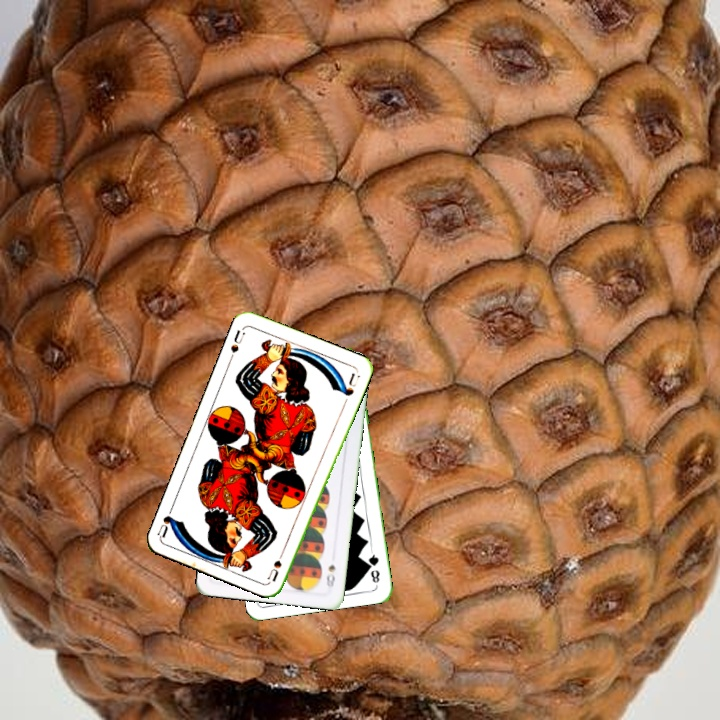G8: (364, 547, 382, 585)
S8: (322, 561, 338, 592)
SU: (265, 544, 288, 584), (226, 326, 248, 355)
